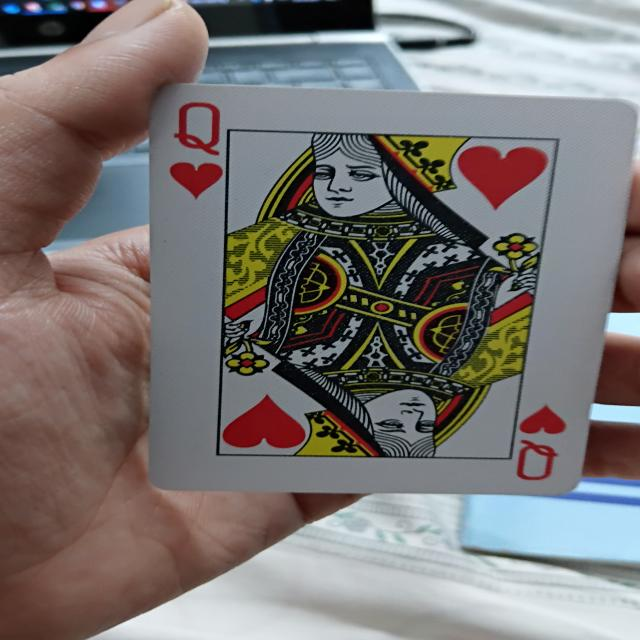QH: (156, 84, 585, 496)
